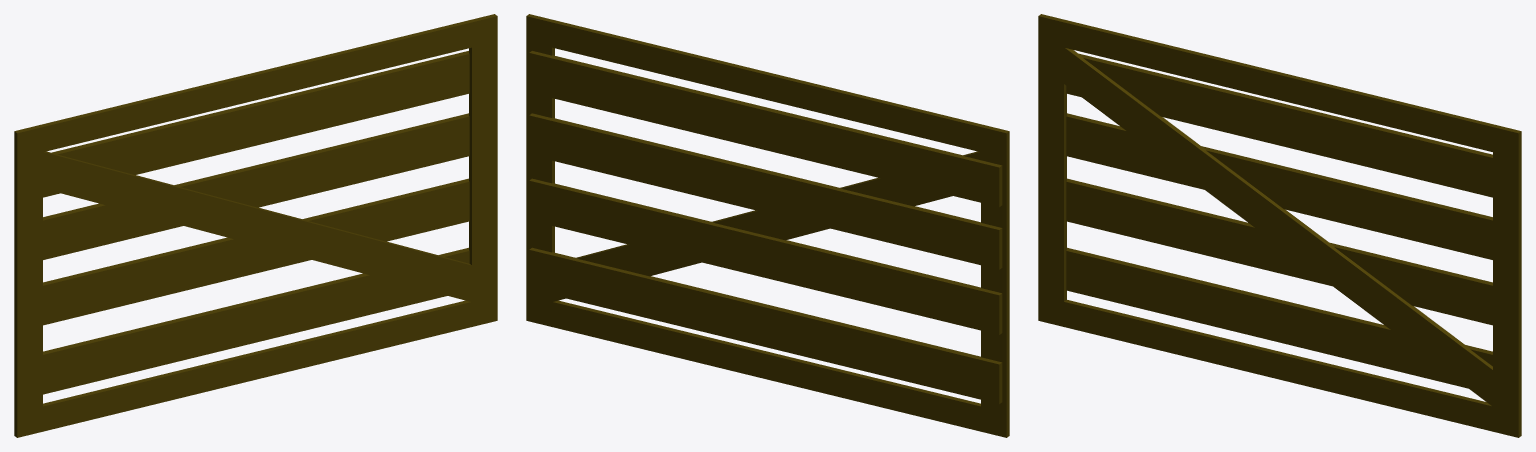
File: Wooden Gate NoPost.fbx
3 renders of one model, left to right at view 1: azimuth 30°, elevation 25°; view 2: azimuth 150°, elevation 25°; view 3: azimuth 330°, elevation 25°, orthographic.
Parts seen in each view (by area): view 1: pCube21; view 2: pCube21; view 3: pCube21.
Part boxes in pixels (x1,y1,x2,y2): pCube21: [14, 14, 497, 437]; pCube21: [526, 14, 1009, 437]; pCube21: [1038, 14, 1521, 437].
Bounding box in the file's own units: 3.41 × 2.07 × 0.0708.
